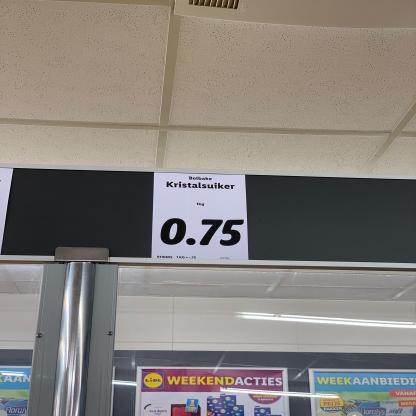prtg: (152, 173, 250, 261)
